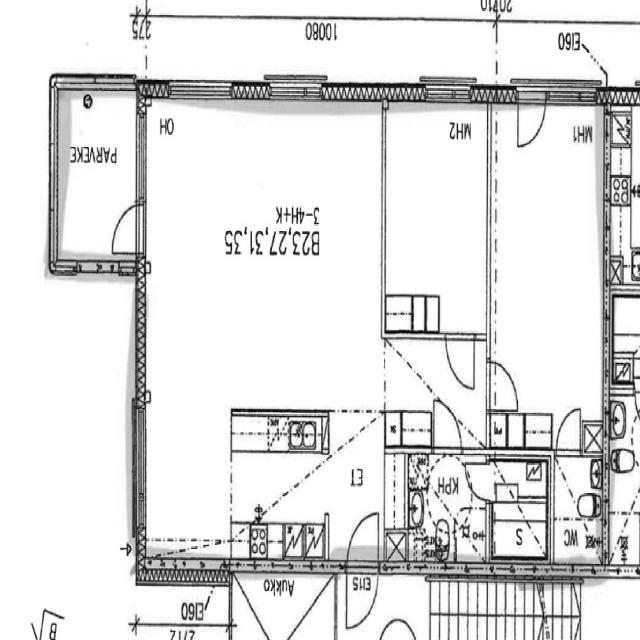door: (515, 85, 548, 155), (345, 507, 381, 571), (443, 329, 478, 394), (486, 355, 522, 416), (108, 199, 144, 258), (429, 396, 463, 456), (554, 404, 582, 458), (465, 457, 494, 506), (633, 381, 640, 425)
window: (125, 400, 153, 528), (68, 251, 132, 286), (164, 78, 234, 109), (268, 75, 324, 106), (132, 113, 150, 209), (424, 78, 477, 110), (546, 81, 600, 112)
zone: (142, 98, 382, 557), (489, 104, 603, 448), (381, 99, 492, 334), (53, 86, 141, 261), (407, 452, 492, 564), (490, 454, 550, 563), (605, 389, 640, 570), (608, 99, 640, 285), (550, 453, 604, 562), (608, 291, 640, 388), (396, 409, 434, 447), (386, 410, 401, 447)
